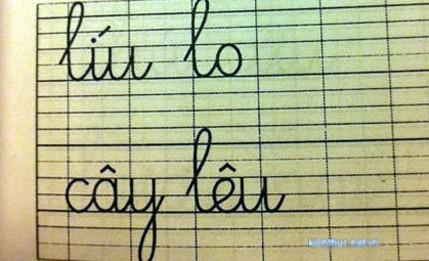text: (63, 125, 285, 261), (56, 0, 244, 83)
